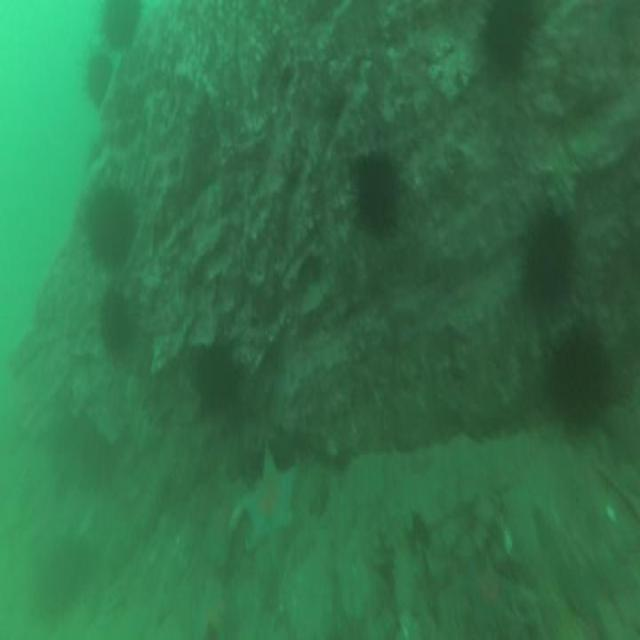echinus: (513, 190, 585, 338), (543, 311, 617, 441), (347, 148, 406, 244), (479, 0, 541, 81), (84, 185, 140, 272), (188, 345, 244, 425), (94, 278, 134, 362), (79, 40, 117, 116), (95, 0, 143, 60)
starfish: (233, 441, 303, 556), (456, 545, 513, 640)
